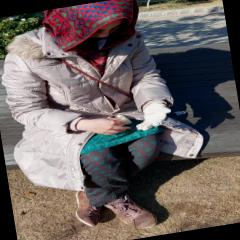gloved: (130, 100, 176, 132)
not-gloved: (75, 112, 133, 141)
